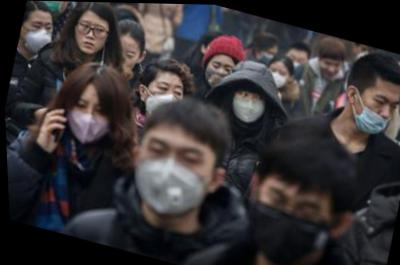NONE: (69, 15, 111, 59), (316, 54, 345, 82)
OK: (127, 128, 216, 221), (242, 180, 338, 265), (63, 94, 118, 149), (139, 72, 189, 128), (16, 12, 58, 57), (228, 85, 269, 127), (203, 54, 238, 91), (28, 1, 70, 21), (264, 63, 290, 90), (285, 50, 310, 74), (256, 40, 279, 65)
WRONG: (353, 79, 400, 140)
